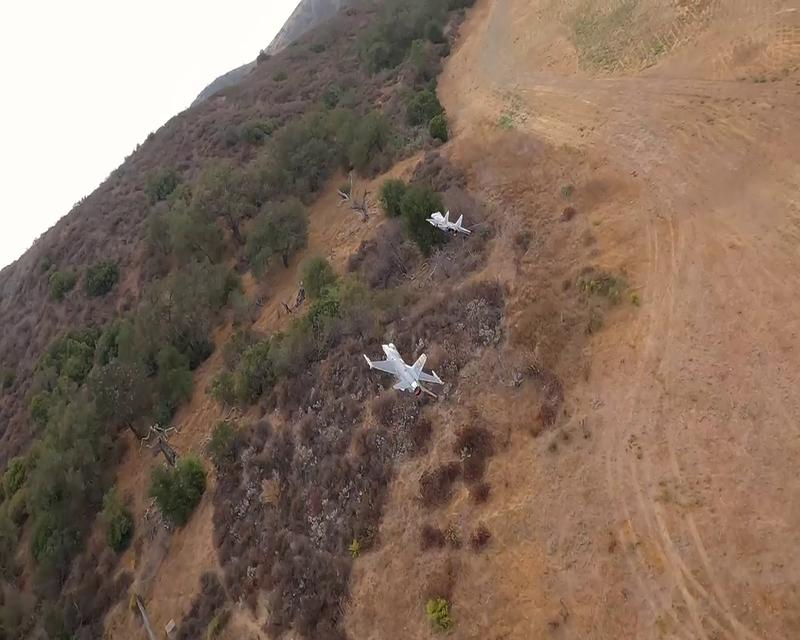UAV: (362, 341, 444, 400), (425, 210, 472, 237)
